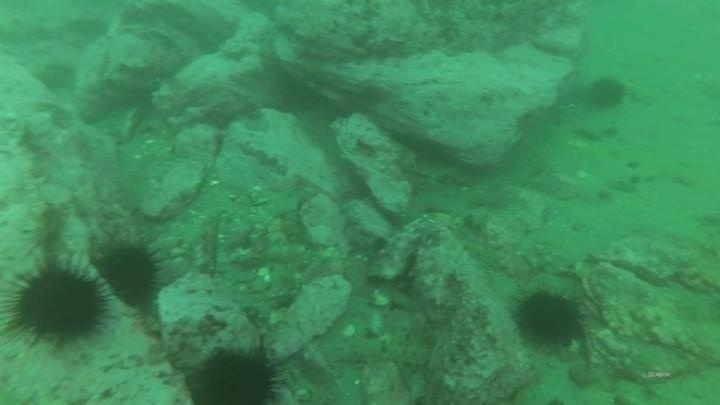echinus: (4, 258, 112, 349), (192, 344, 285, 405), (95, 238, 164, 308), (511, 286, 586, 350), (585, 75, 628, 113), (35, 59, 78, 94)
